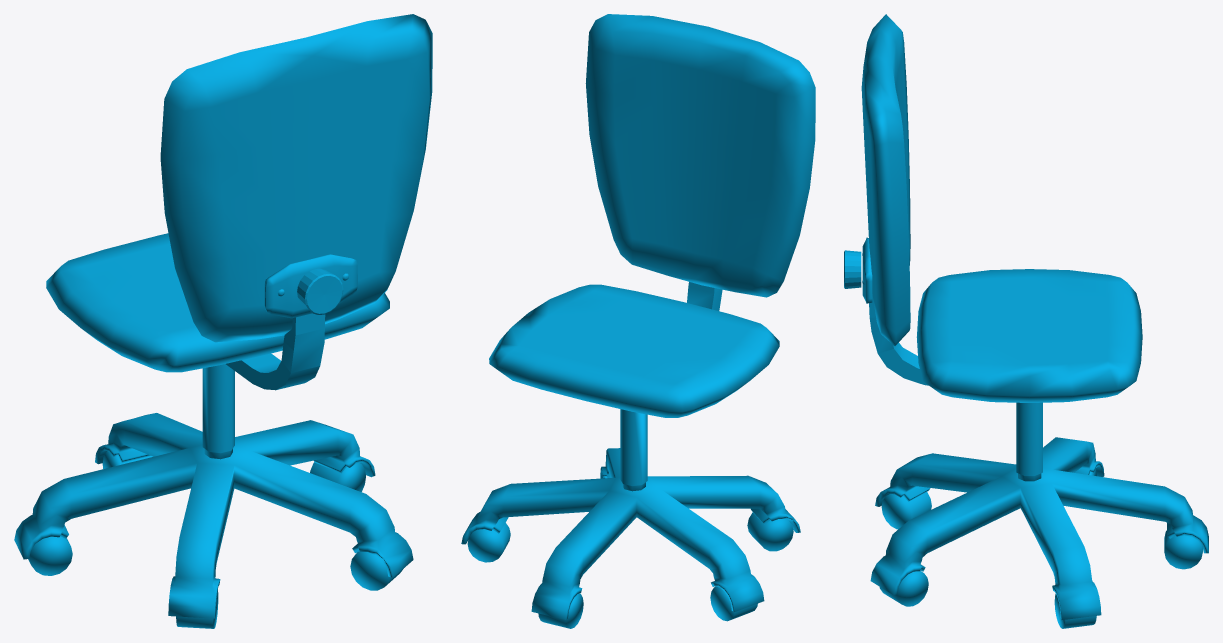
File: Chair_03_Lod0.fbx
3 renders of one model, left to right at view 1: azimuth 30°, elevation 25°; view 2: azimuth 150°, elevation 25°; view 3: azimuth 270°, elevation 25°, orthographic. The views are drawn at different scales.
Parts seen in each view (by area): view 1: Chair_03_Lod0; view 2: Chair_03_Lod0; view 3: Chair_03_Lod0.
Part boxes in pixels (x1=…): Chair_03_Lod0: x1=14, y1=14, x2=432, y2=628; Chair_03_Lod0: x1=461, y1=14, x2=815, y2=628; Chair_03_Lod0: x1=844, y1=14, x2=1208, y2=628.
Size of the model in its own units: 64.22 by 102 by 66.11.
